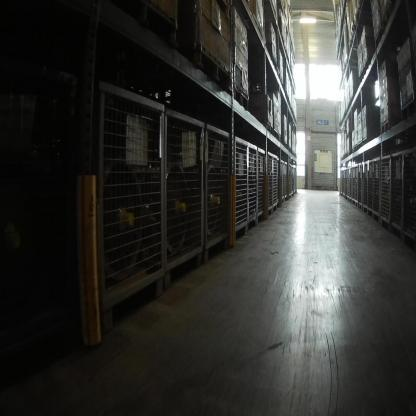pallet: (183, 43, 232, 92), (233, 86, 254, 113), (378, 117, 395, 141), (383, 2, 399, 26), (400, 96, 413, 121), (357, 71, 374, 88), (268, 48, 278, 74), (377, 23, 386, 51), (274, 67, 284, 91), (263, 117, 274, 136), (361, 61, 372, 75), (363, 137, 371, 146), (272, 130, 278, 141), (278, 133, 282, 147), (358, 139, 362, 151), (348, 148, 352, 157), (355, 144, 358, 153), (352, 146, 355, 154)
stillage: (86, 59, 166, 314), (164, 89, 202, 294), (203, 112, 231, 266), (229, 134, 249, 239), (388, 145, 403, 243), (402, 147, 415, 247), (246, 138, 258, 234), (379, 153, 390, 236), (265, 150, 276, 223), (255, 140, 264, 227), (373, 154, 381, 223), (368, 156, 374, 218), (355, 160, 360, 211), (358, 161, 363, 211), (284, 164, 289, 207), (281, 163, 286, 205), (276, 157, 279, 212)
